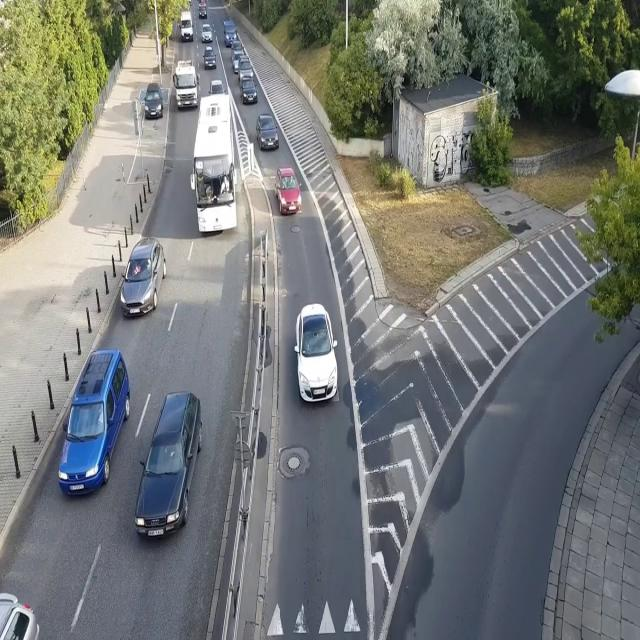bus: (191, 95, 238, 234)
car: (133, 391, 202, 542), (294, 303, 338, 410), (120, 236, 166, 321), (0, 589, 40, 640), (274, 167, 303, 215), (256, 114, 280, 153), (143, 82, 165, 121), (242, 74, 258, 106), (231, 44, 245, 74), (238, 56, 254, 80), (208, 78, 228, 96), (204, 45, 216, 71), (201, 23, 213, 43), (198, 6, 207, 18)
truck: (172, 60, 198, 110)
van: (58, 345, 130, 497), (179, 9, 194, 41), (222, 19, 239, 45)
